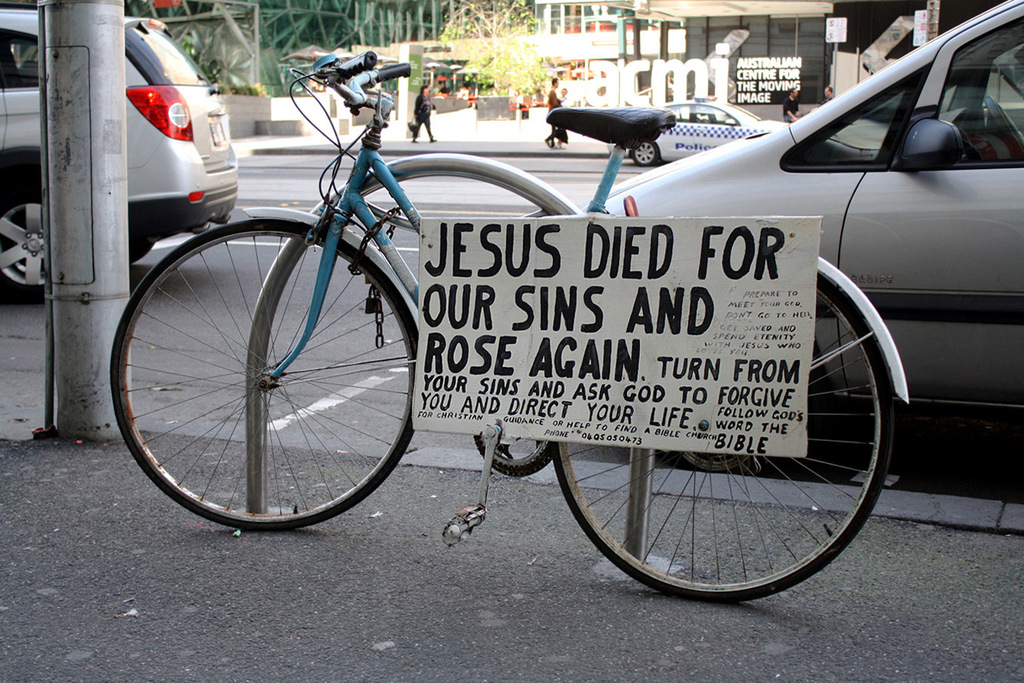Wheel: (555, 251, 890, 606), (104, 209, 419, 536)
